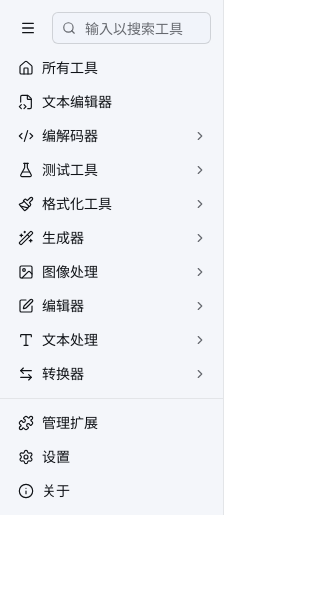
Test: Sidebar 工具右键菜单 › 「编辑器」分组内不重复渲染固定的文本编辑器
Click the button with test id "nav-cat-editor": (112, 306) [8,290,215,322]
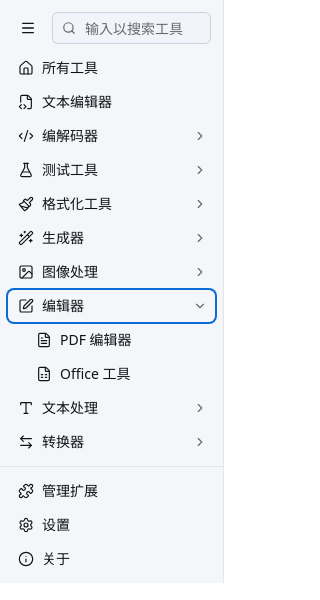
Expected: the number of buttons "文本编辑器" is 1, [8,86,215,118]
Result: the number of buttons "PDF 编辑器" is 1 at [8,324,215,356]
